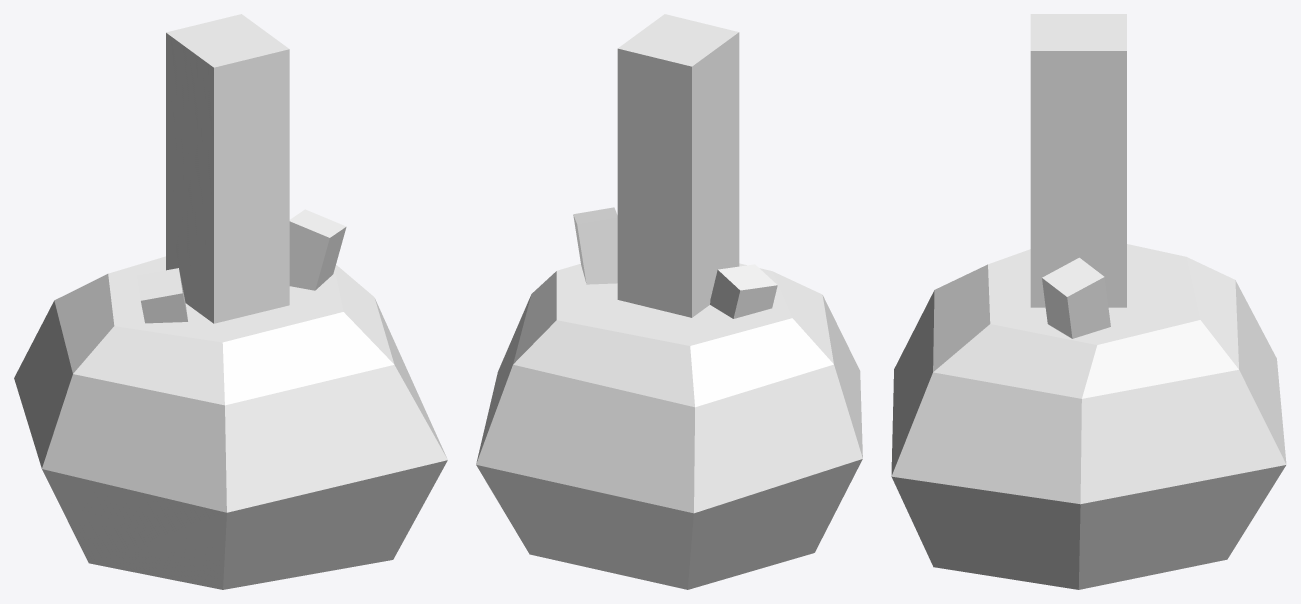
The model's file is limbending.FBX.
3 renders of one model, left to right at view 1: azimuth 30°, elevation 25°; view 2: azimuth 150°, elevation 25°; view 3: azimuth 270°, elevation 25°, orthographic. The views are drawn at different scales.
Visible parts, largest first — view 1: limbending; view 2: limbending; view 3: limbending.
Boxes of the visible parts, bbox=[...] form: limbending: bbox=[14, 14, 447, 589]; limbending: bbox=[476, 14, 862, 589]; limbending: bbox=[891, 14, 1286, 589].
Size of the model in its own units: 10.28 by 12.97 by 9.49.
1 material, 1 textured.
